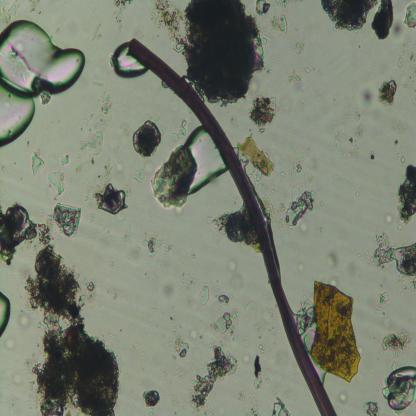Air bubble: (0, 20, 87, 101), (181, 122, 225, 196), (0, 88, 42, 147), (110, 38, 146, 84), (0, 287, 11, 342)
Background material: (15, 239, 130, 416), (184, 0, 268, 99), (291, 278, 365, 382), (192, 341, 240, 414), (150, 145, 197, 214), (371, 228, 416, 290), (233, 128, 283, 180), (0, 204, 39, 266), (78, 95, 115, 159), (209, 210, 259, 254), (378, 362, 416, 415), (318, 0, 380, 29), (89, 170, 128, 215), (152, 1, 183, 54), (285, 188, 321, 233), (45, 203, 83, 240), (335, 115, 365, 159), (395, 165, 416, 225), (214, 294, 240, 340), (372, 0, 396, 49), (136, 230, 174, 260), (131, 120, 161, 155), (250, 96, 280, 130), (224, 258, 247, 294), (169, 326, 191, 360), (382, 333, 414, 356), (270, 0, 290, 35), (139, 389, 164, 416), (377, 78, 397, 110), (370, 292, 394, 318), (48, 172, 70, 199), (252, 353, 268, 389), (80, 276, 99, 305), (387, 16, 406, 45), (111, 0, 132, 26), (271, 393, 294, 416), (406, 50, 416, 100), (325, 246, 341, 274), (172, 119, 188, 144), (0, 2, 19, 22), (360, 83, 375, 108), (404, 0, 416, 29), (178, 272, 196, 291), (31, 153, 47, 174), (196, 286, 212, 306), (11, 365, 24, 389), (13, 311, 30, 328), (245, 297, 257, 320), (253, 1, 270, 16), (362, 401, 379, 416), (92, 19, 104, 40), (295, 161, 308, 180), (155, 307, 170, 323), (288, 70, 303, 86), (291, 40, 304, 58), (29, 1, 46, 14), (191, 325, 202, 342), (164, 284, 176, 299), (6, 336, 17, 351), (340, 390, 350, 406), (135, 170, 148, 182), (60, 154, 71, 167), (250, 404, 260, 416), (394, 55, 402, 70), (385, 212, 393, 226), (298, 265, 308, 276), (73, 163, 83, 174), (304, 65, 312, 75), (368, 152, 374, 164), (400, 155, 405, 163)
Microfibre: (126, 40, 336, 416)
